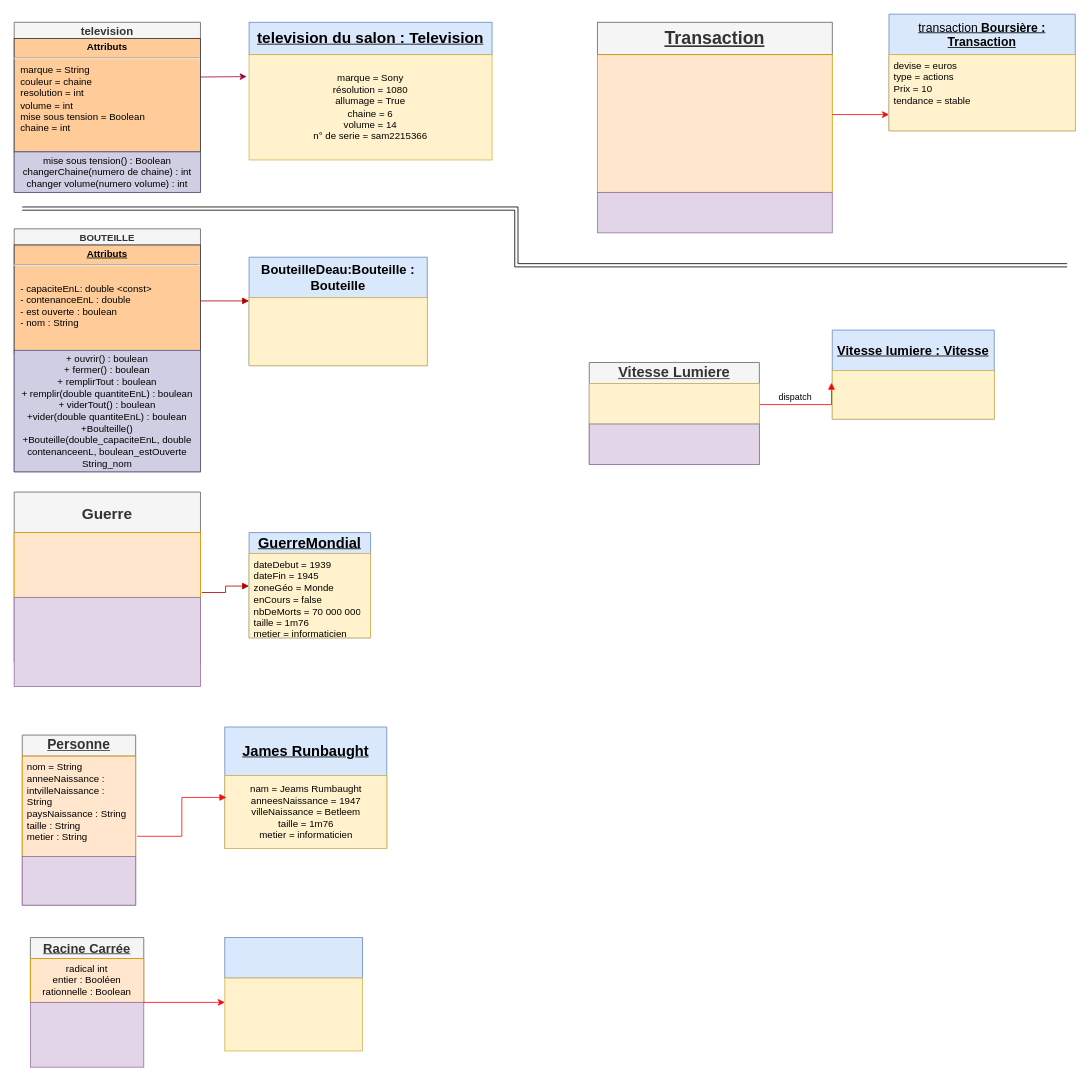
The diagram is 1089 pixels wide and 1081 high, and some of its shapes have lost their labels. The centre of each missing label's shape, as x and y in pixels:
acheter (double, prix) : double vendre (double, prix) : double: (714,212)
bombardement = () terrain gagner= () terrain recuperer= () auxiliair = (): (106,641)
calcul vitesse() : Double: (673,444)
capaciteEnL = 1.5 contenanceEnL = 1.25 estOuverte = false non = "Christaline": (337,331)
date : int zoneGéo : String enCours : Boolean dateFin : int: (106,564)
devise : String type : tring prix : double tendance : String: (714,123)
Distance = 300 000 Temps : 1 seconde: (912,394)
distanceKm : Double TempsS : Double: (673,403)
donnerAge (): (78,880)
est Entier() : Boolean est Rationnel () : boolean: (87,1034)
RacineCarre Quatre : RacineCarrée: (293,957)
radical = 4 entiere = Vrai rationnelle = Vrai: (293,1014)
